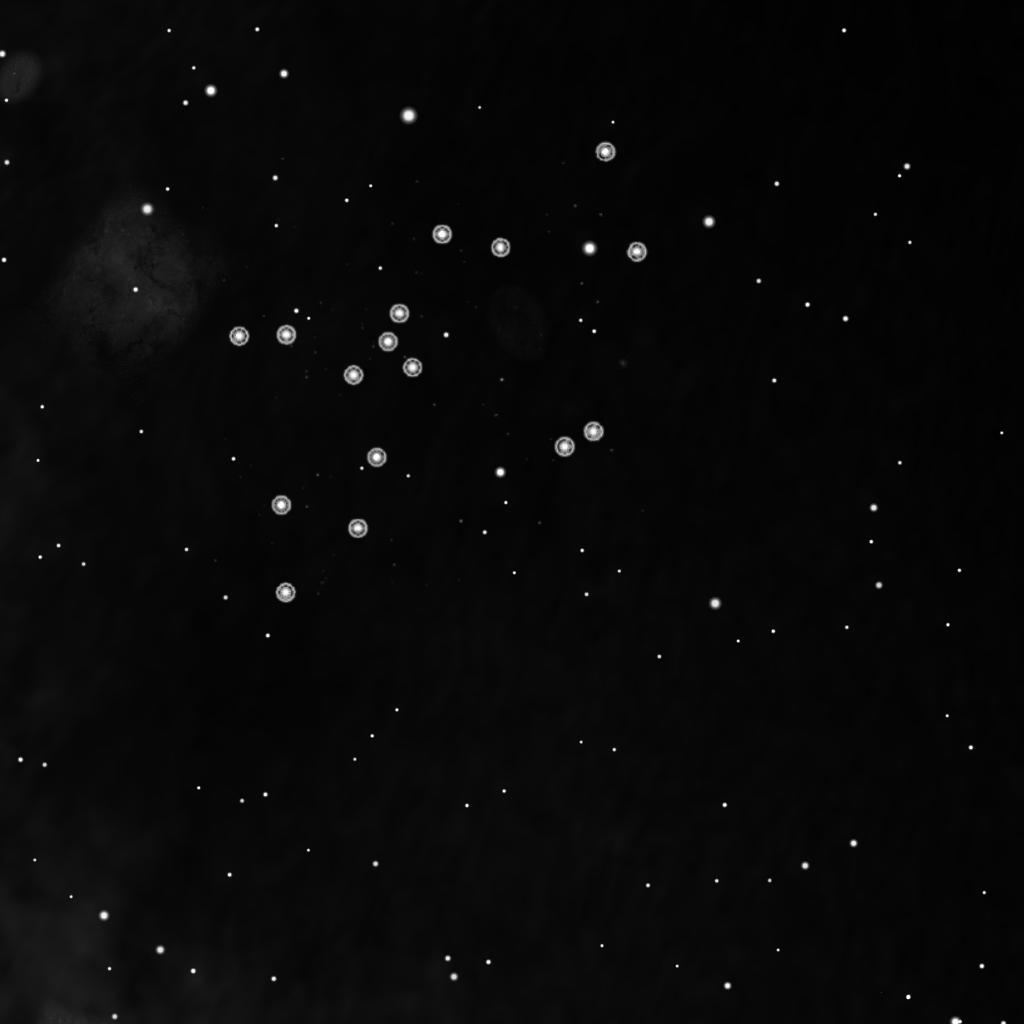canis_major: (338, 220, 513, 392)
